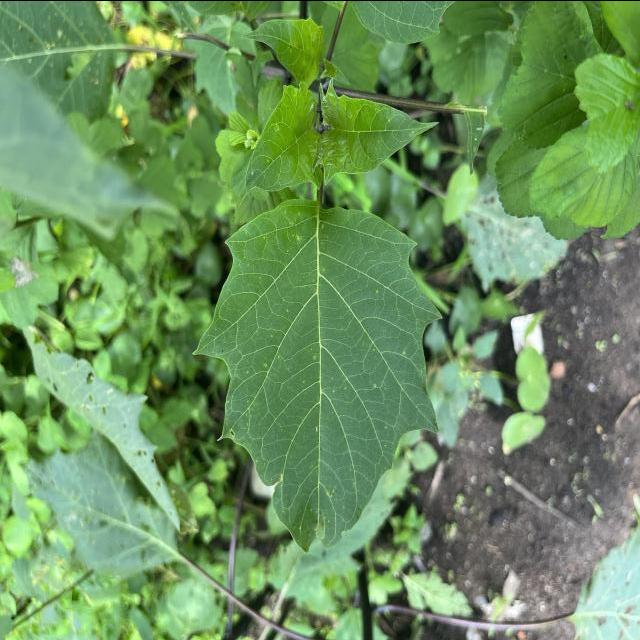Datura metal linn: (189, 194, 447, 556)
